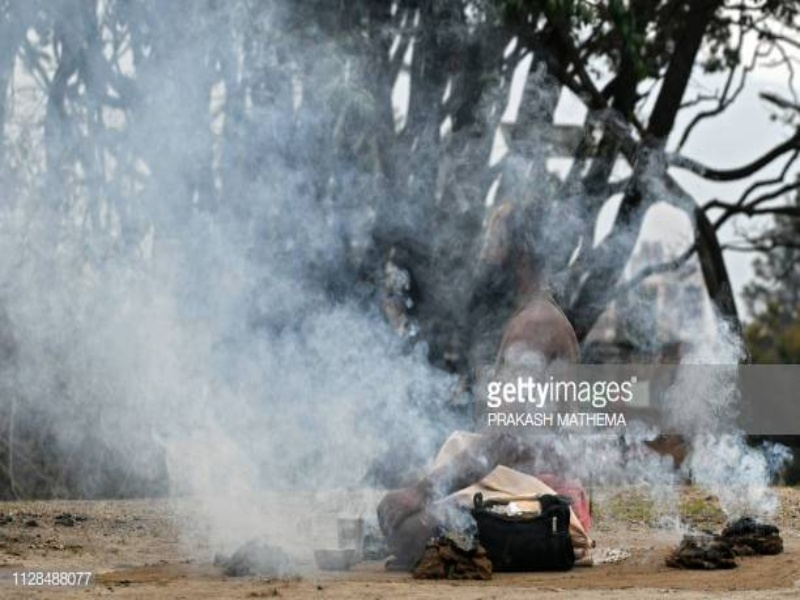smoke: (59, 72, 380, 521)
